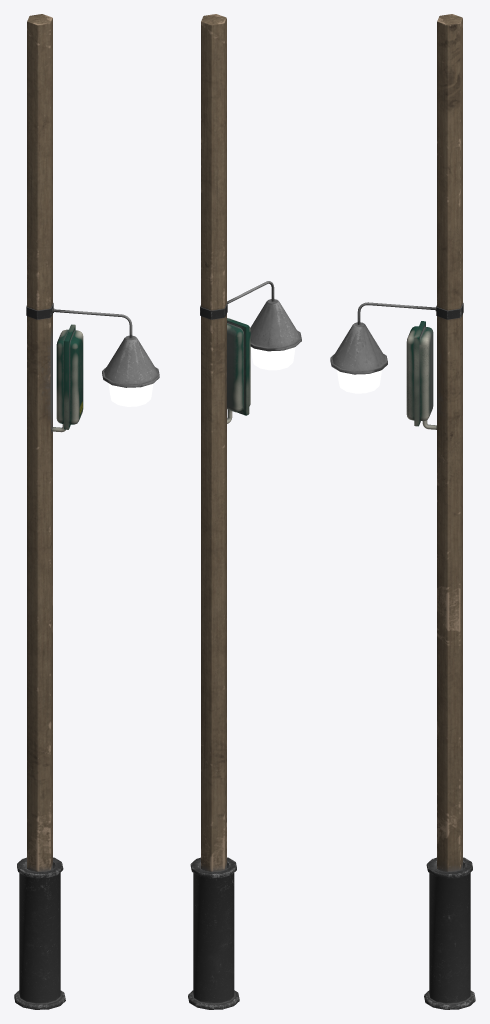
The model's file is street_lamp_game_ready_prop.glb.
3 views of the same model, side by side, from view 1: azimuth 90°, elevation 25°; view 2: azimuth 150°, elevation 25°; view 3: azimuth 270°, elevation 25° (orthographic).
Parts seen in each view (by area): view 1: Line001_Material #2_0; view 2: Line001_Material #2_0; view 3: Line001_Material #2_0.
Boxes of the visible parts, box(x1,y1,x2,y2) form: Line001_Material #2_0: box(14, 14, 159, 1009); Line001_Material #2_0: box(188, 14, 301, 1009); Line001_Material #2_0: box(330, 14, 475, 1009).
Size of the model in its own units: 0.3537 by 5.42 by 0.7308.
Materials: 1 (1 with a texture image).
